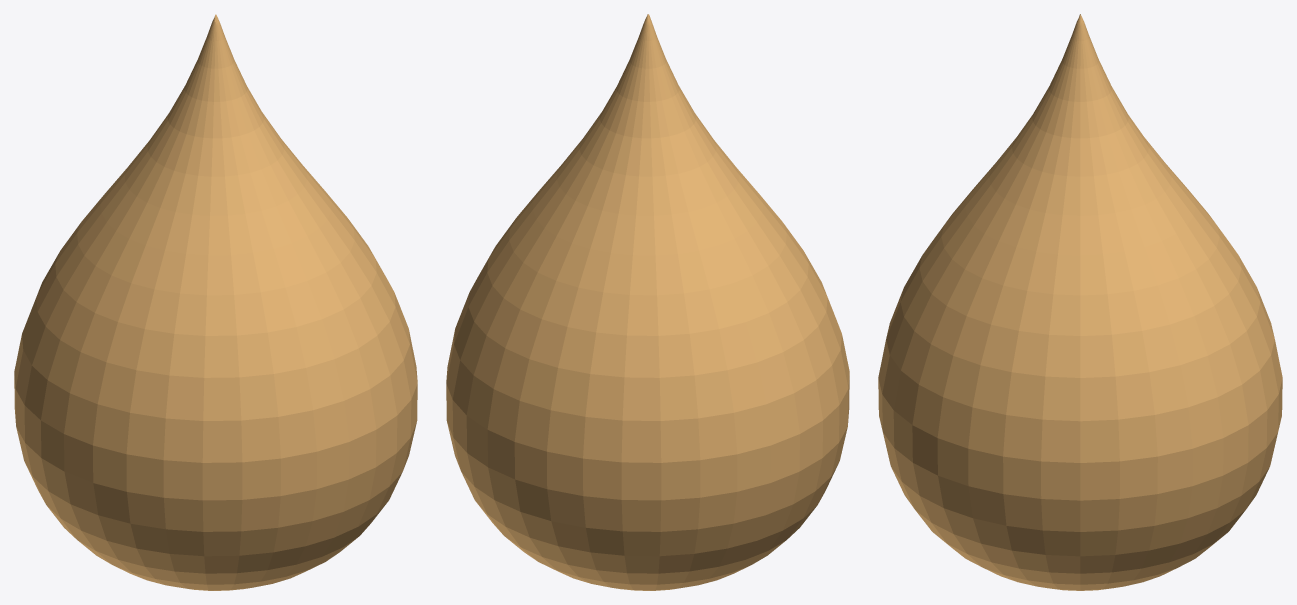
The model's file is oil.fbx.
3 renders of one model, left to right at view 1: azimuth 30°, elevation 25°; view 2: azimuth 150°, elevation 25°; view 3: azimuth 270°, elevation 25°, orthographic.
Visible parts, largest first — view 1: Sphere; view 2: Sphere; view 3: Sphere.
Part boxes in pixels (x1,y1,x2,y2): Sphere: (14, 14, 417, 590); Sphere: (446, 14, 849, 590); Sphere: (878, 14, 1282, 590).
Size of the model in its own units: 253 by 383 by 253.
